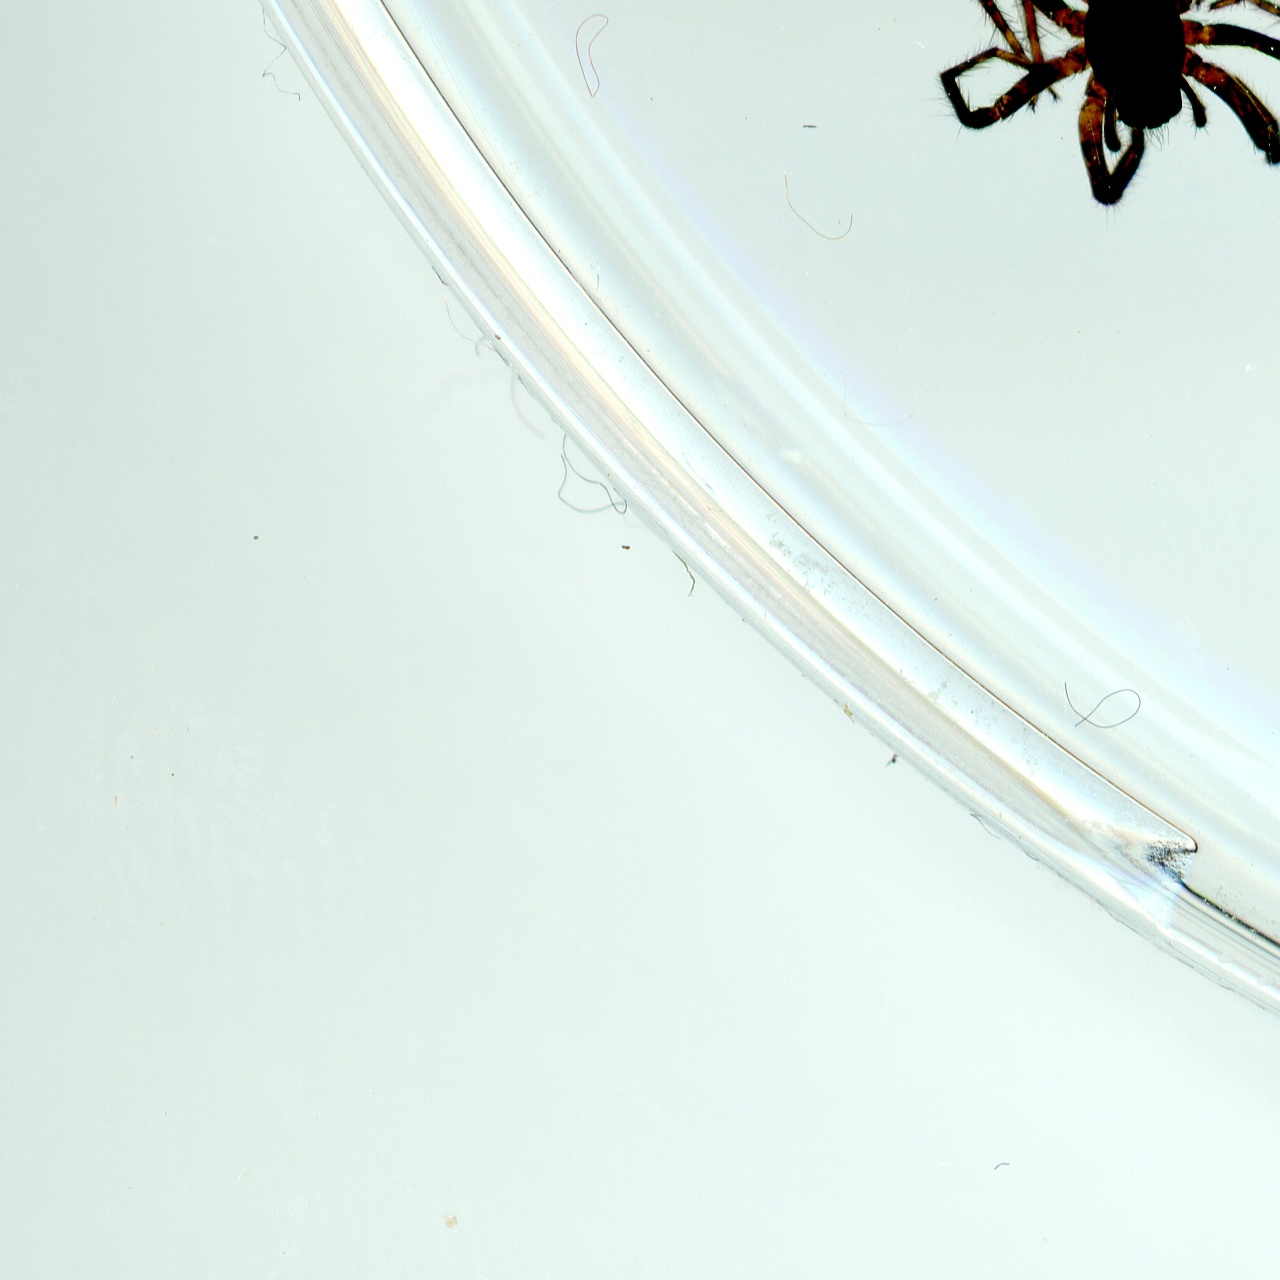arthropod: (937, 0, 1280, 203)
